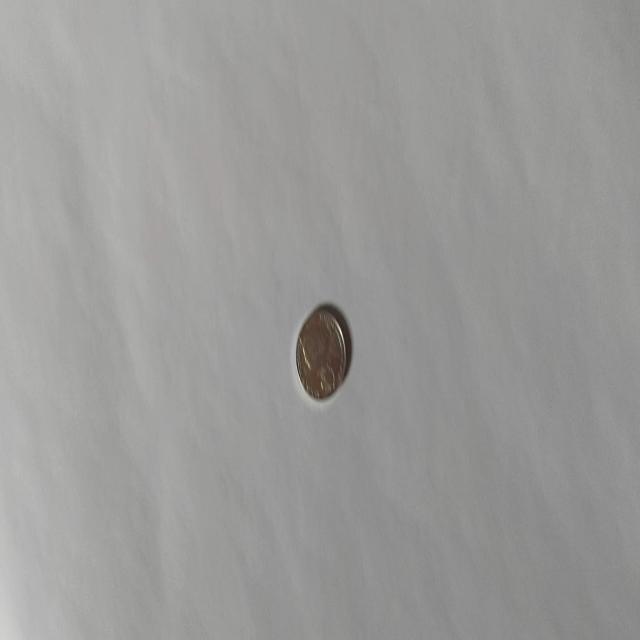seratus rupiah: (294, 305, 348, 401)
